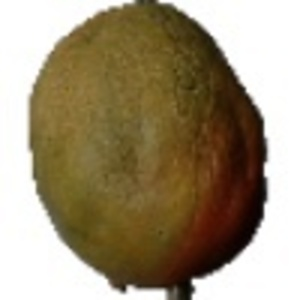mamão: (27, 1, 261, 291)
